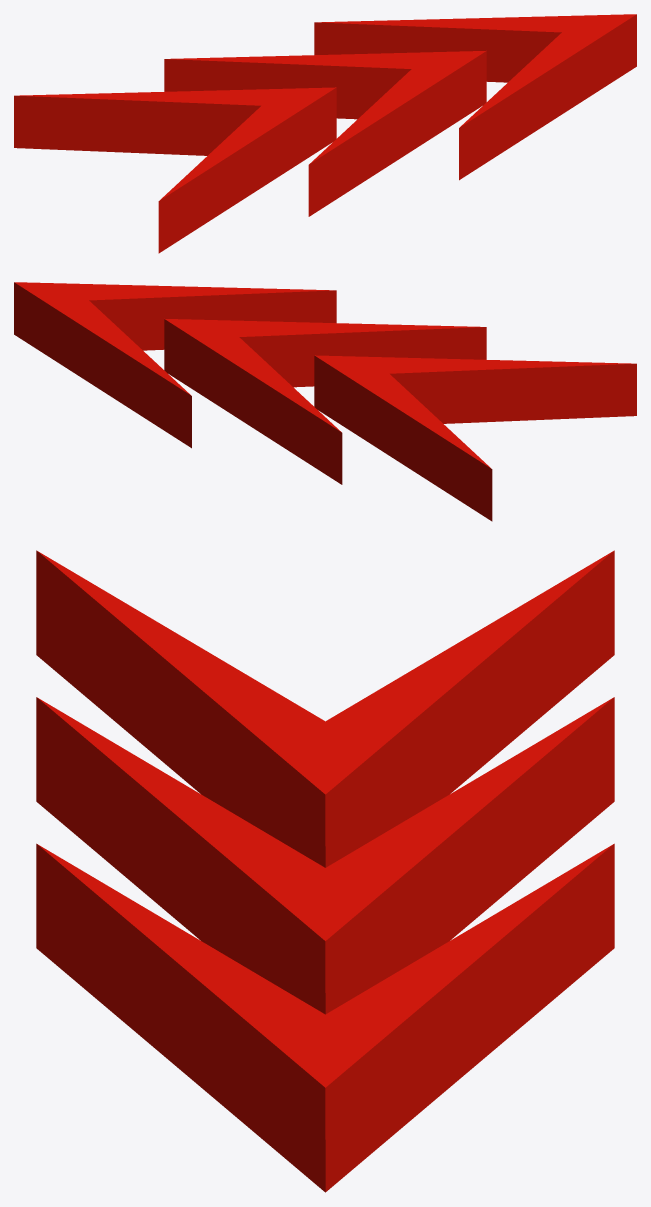
Rendered from speed_plus2.glb.
The picture shows the model from 3 angles, top to bottom: view 1: azimuth 30°, elevation 25°; view 2: azimuth 150°, elevation 25°; view 3: azimuth 270°, elevation 25°; orthographic projection. The views are drawn at different scales.
Parts seen in each view (by area): view 1: SpeedBoost_Bonus; view 2: SpeedBoost_Bonus; view 3: SpeedBoost_Bonus.
Boxes of the visible parts, bbox=[...] form: SpeedBoost_Bonus: bbox=[14, 14, 636, 253]; SpeedBoost_Bonus: bbox=[14, 282, 636, 521]; SpeedBoost_Bonus: bbox=[36, 550, 614, 1192].
Size of the model in its own units: 2.2 by 0.2 by 1.
